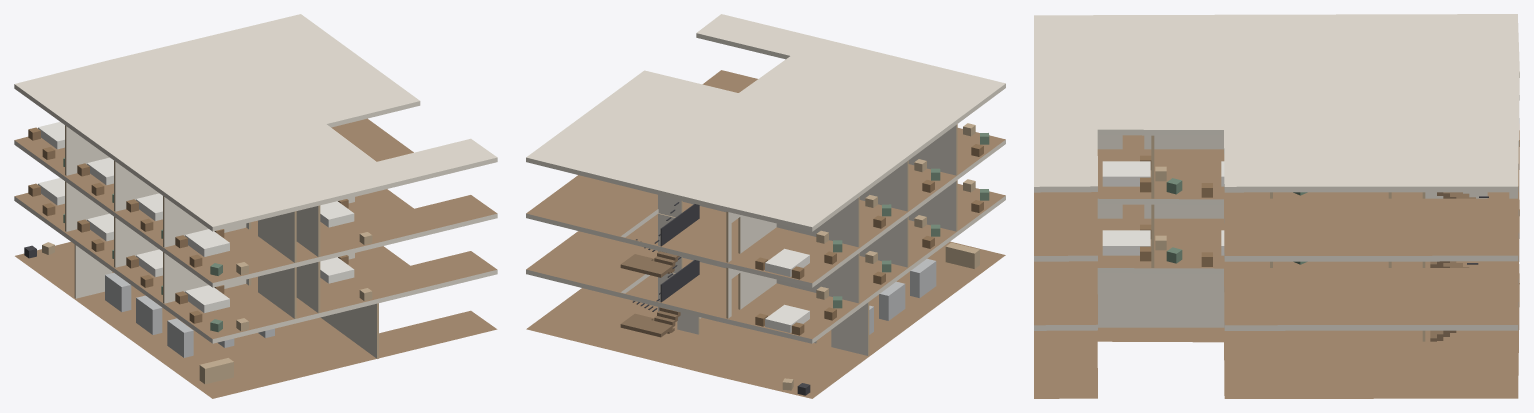
File: interior.glb
The picture shows the model from 3 angles, left to right: view 1: azimuth 30°, elevation 25°; view 2: azimuth 150°, elevation 25°; view 3: azimuth 270°, elevation 25°; orthographic projection. The views are drawn at different scales.
Visible parts, largest first — view 1: slabs, partitions, coarse-s1, coarse-s2, coarse-s0; view 2: slabs, partitions, stair, coarse-s0, coarse-s1, coarse-s2; view 3: slabs, partitions, coarse-s1, coarse-s2, stair.
Boxes of the visible parts, <box> form: slabs: <box>14,14,497,398</box>; partitions: <box>65,125,378,358</box>; coarse-s1: <box>28,178,372,332</box>; coarse-s2: <box>28,122,372,275</box>; coarse-s0: <box>24,242,274,384</box>; slabs: <box>526,14,1005,398</box>; partitions: <box>658,124,957,355</box>; stair: <box>620,202,699,337</box>; coarse-s0: <box>782,242,979,395</box>; coarse-s1: <box>755,179,989,335</box>; coarse-s2: <box>755,123,989,279</box>; slabs: <box>1034,14,1519,398</box>; partitions: <box>1097,135,1517,341</box>; coarse-s1: <box>1102,224,1307,266</box>; coarse-s2: <box>1102,155,1307,197</box>; stair: <box>1430,192,1488,341</box>.
Size of the model in its own units: 16.99 by 9.74 by 20.17.
